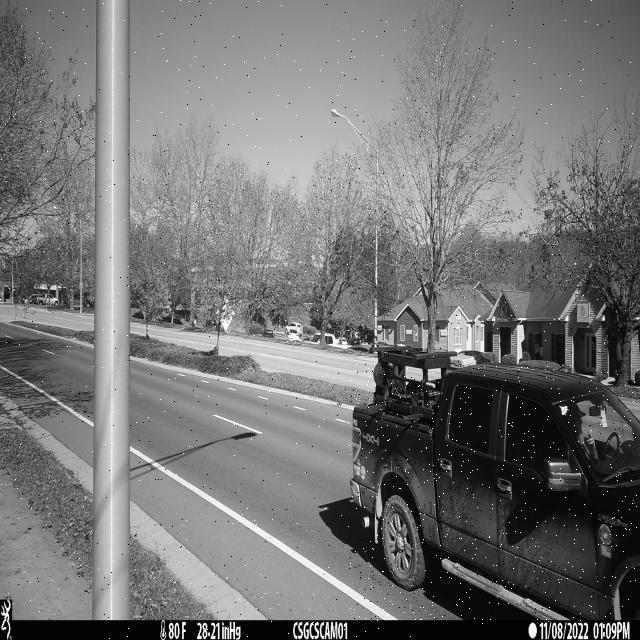SUV: (349, 364, 640, 623)
